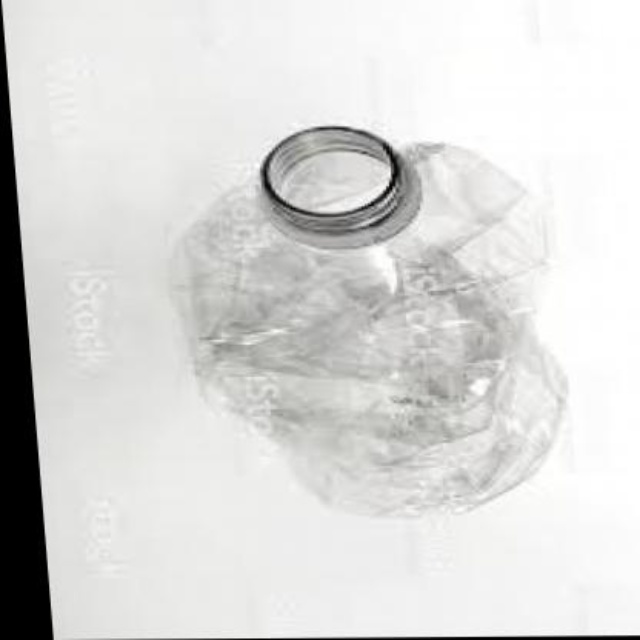trash: (174, 126, 565, 514)
